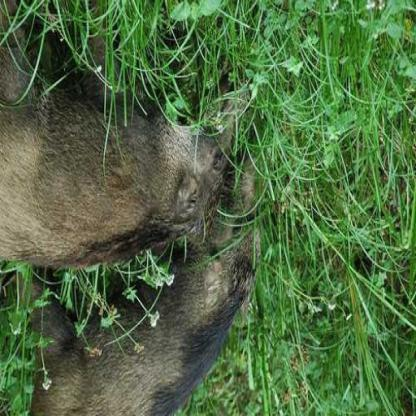boar: (0, 60, 242, 293), (71, 182, 262, 416)
